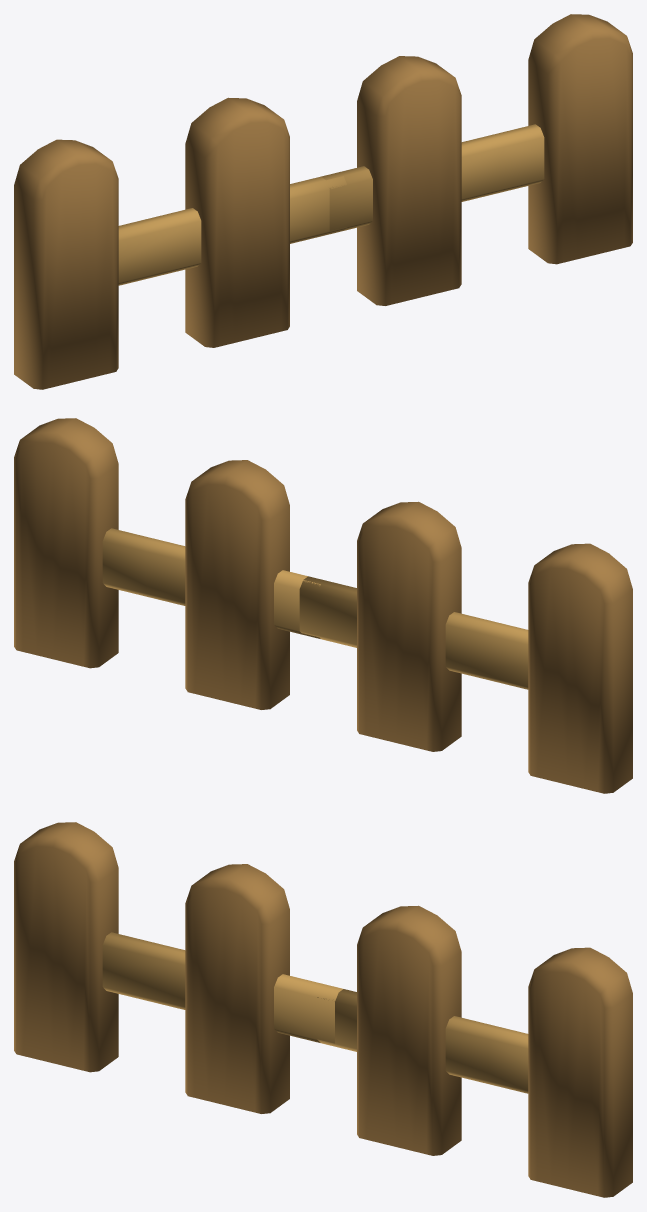
File: Fince_Middle_001.gltf
3 renders of one model, top to bottom at view 1: azimuth 30°, elevation 25°; view 2: azimuth 150°, elevation 25°; view 3: azimuth 330°, elevation 25°, orthographic.
Parts seen in each view (by area): view 1: Fince_Middle.001; view 2: Fince_Middle.001; view 3: Fince_Middle.001.
Boxes of the visible parts, x1,y1,x2,y2 form: Fince_Middle.001: [14, 14, 632, 389]; Fince_Middle.001: [14, 418, 632, 793]; Fince_Middle.001: [14, 822, 632, 1197].
Bounding box in the file's own units: 3.25 × 1.16 × 0.2459.
